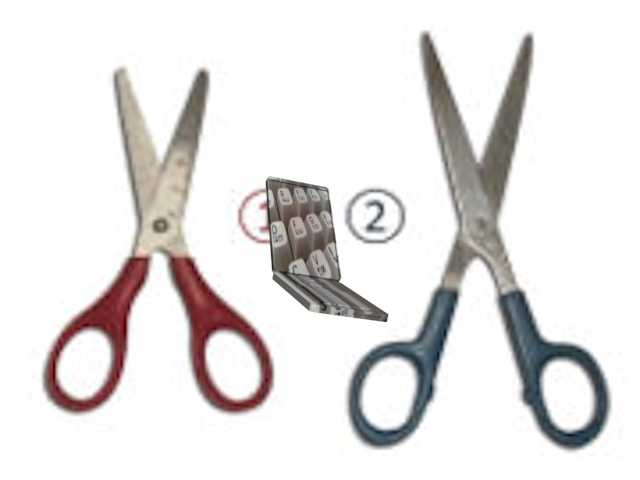mobile_phone: (257, 177, 400, 336)
